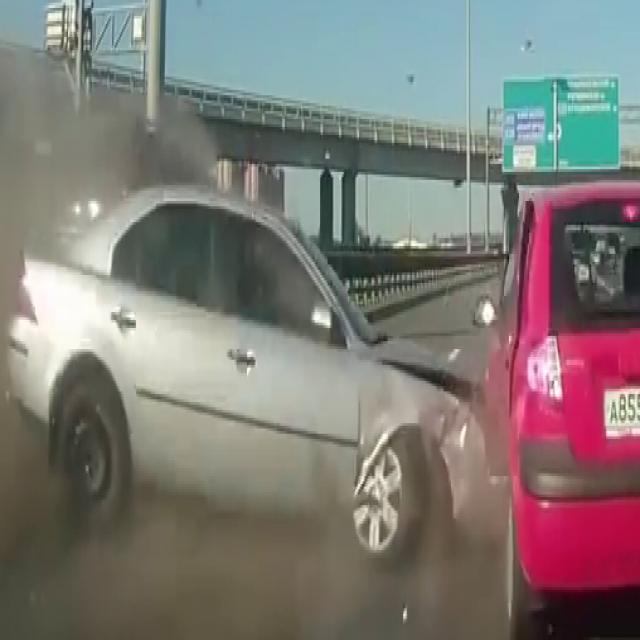accident: (20, 167, 503, 578)
